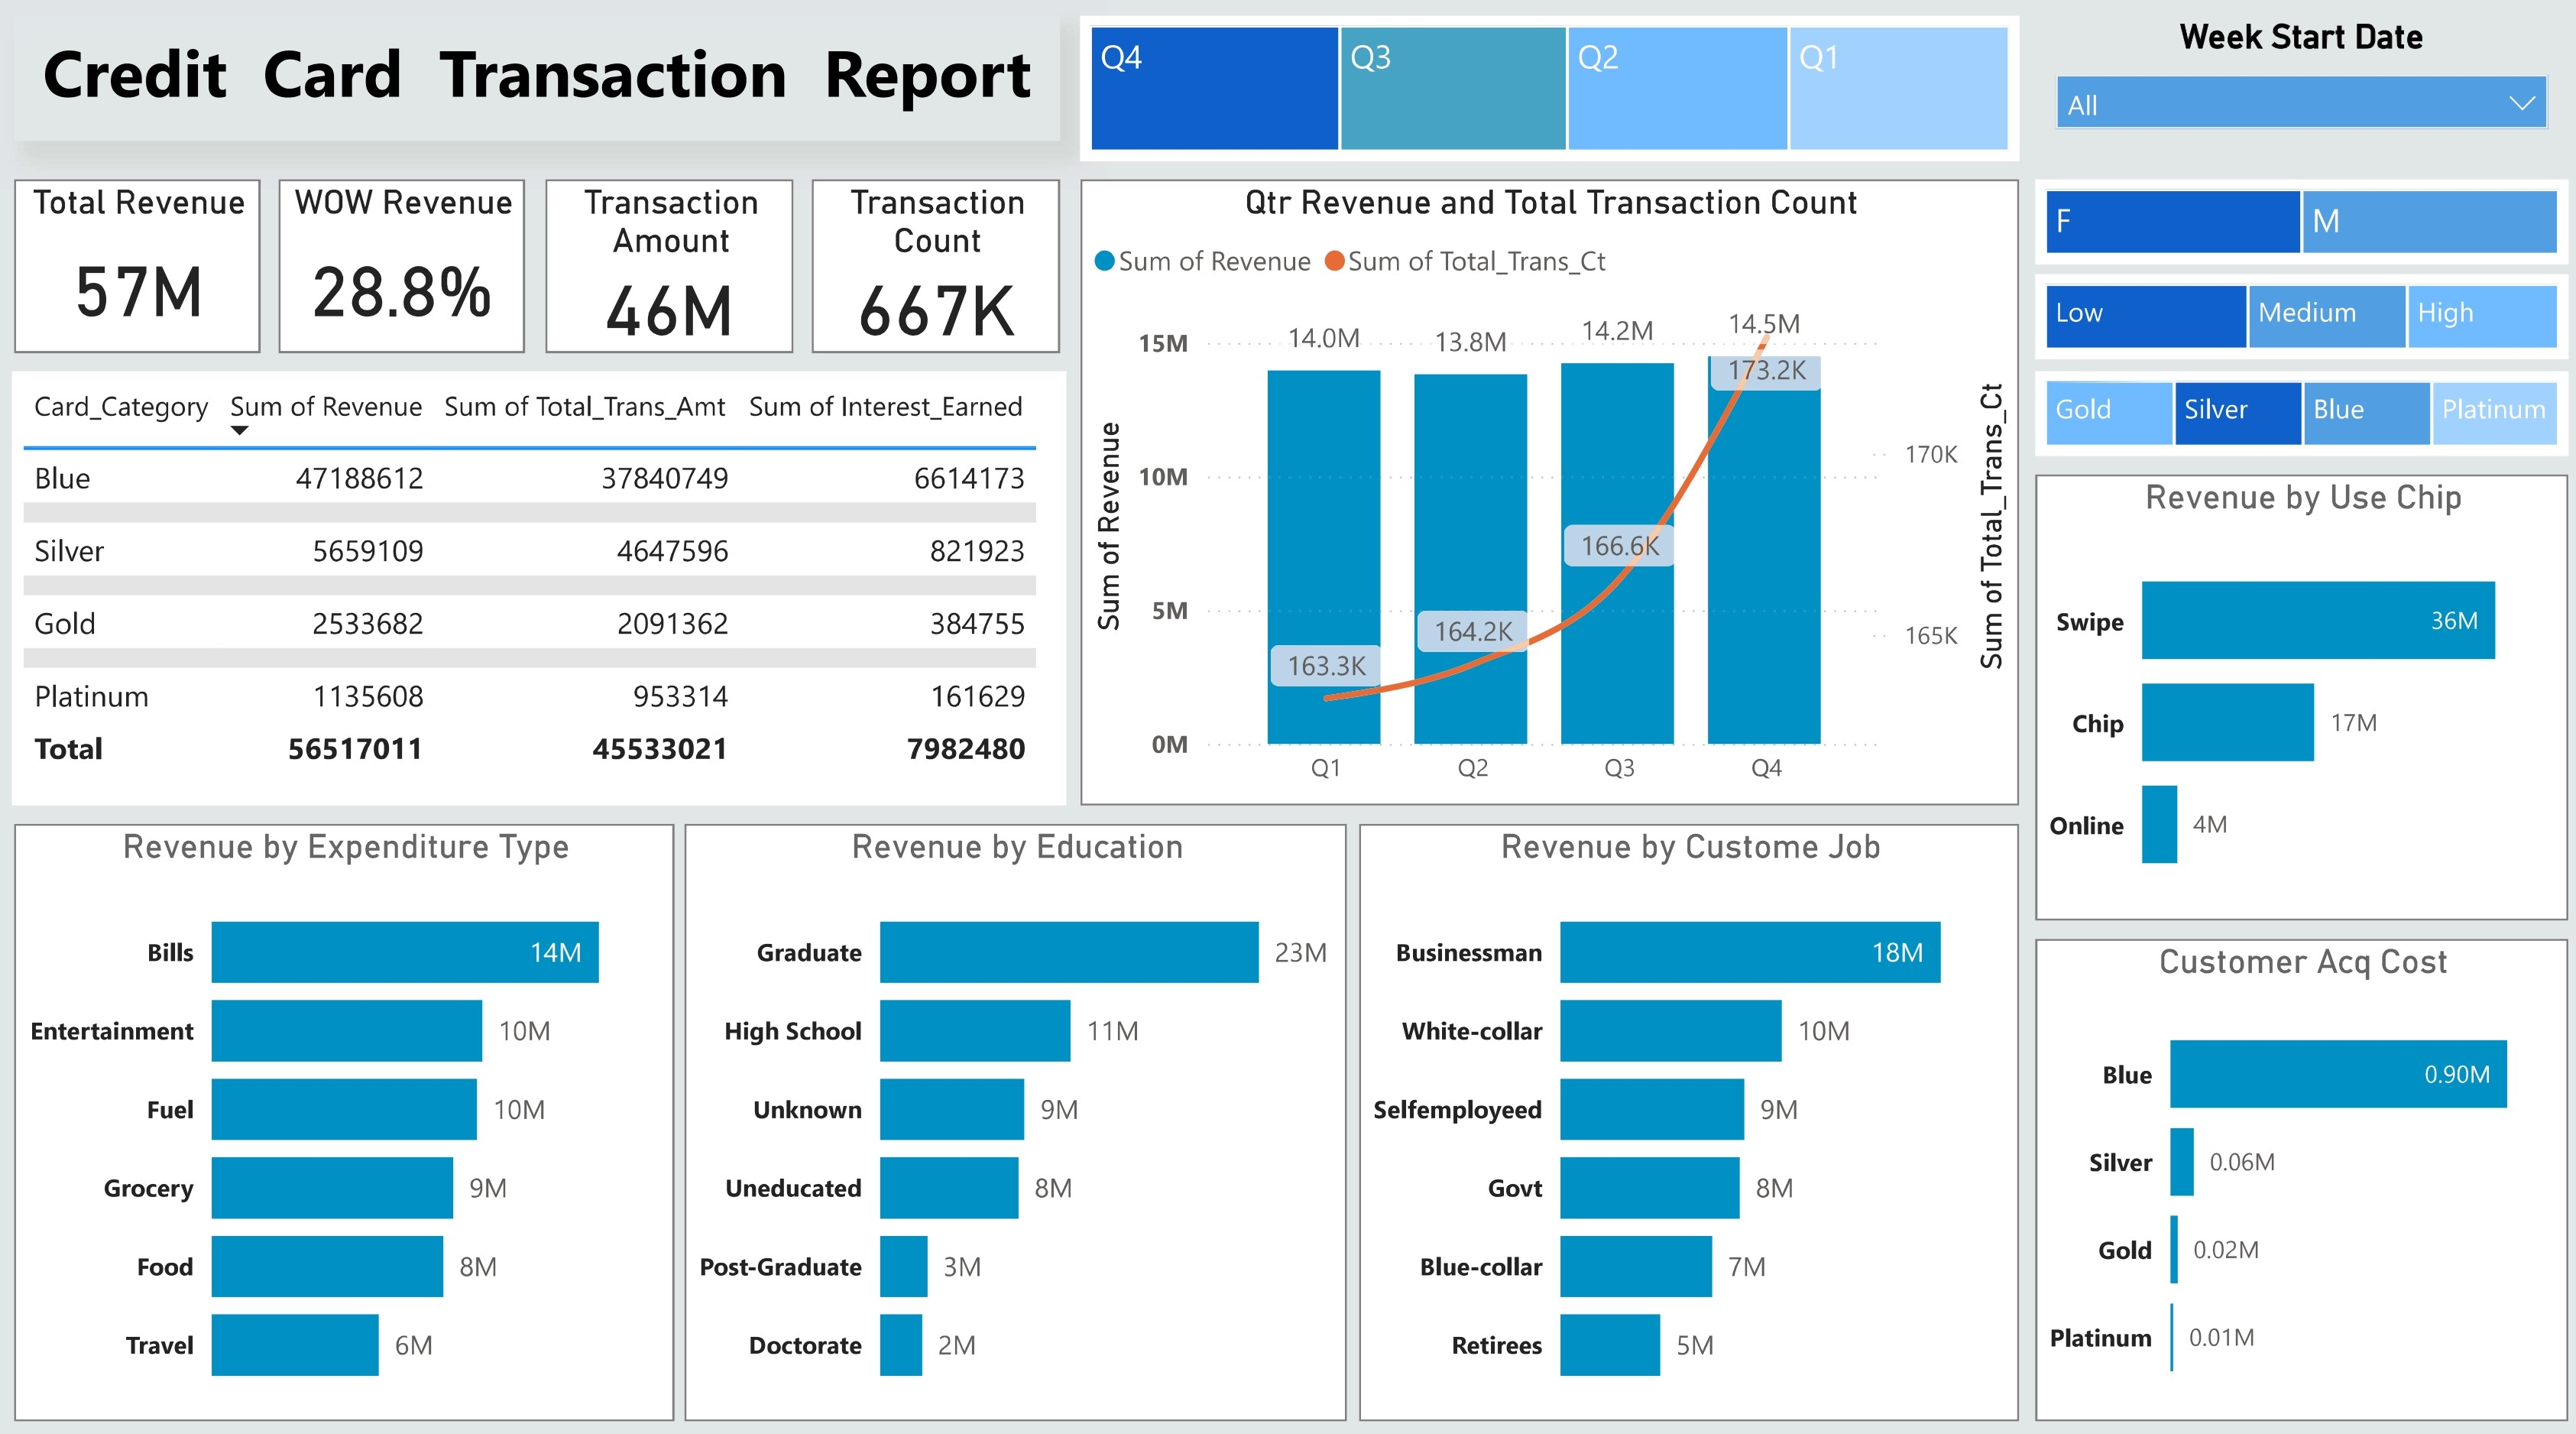

This screenshot's page, from the dashboard's own definition file:
{"tool":"powerbi","page":{"name":"Credit Card - Transaction","canvas":[1280,720],"ordinal":2},"visuals":[{"type":"textbox","box":[7.5,12.5,518.8,62.5],"z":0},{"type":"lineStackedColumnComboChart","title":"Qtr Revenue and Total Transaction Count ","fields":{"Y":["Sum(ccdb cc_detail.Revenue)"],"Category":["ccdb cc_detail.Qtr"],"Y2":["Sum(ccdb cc_detail.Total_Trans_Ct)"]},"box":[536.2,93.8,465,310],"z":1000},{"type":"barChart","title":"Revenue by Expenditure Type","fields":{"Y":["Sum(ccdb cc_detail.Revenue)"],"Category":["ccdb cc_detail.Exp_Type"]},"box":[7.5,412.5,327,296.2],"z":2000},{"type":"barChart","title":"Revenue by Education","fields":{"Y":["Sum(ccdb cc_detail.Revenue)"],"Category":["ccdb cust_detail.Education_Level"]},"box":[340,412.5,327.5,296.2],"z":3000},{"type":"barChart","title":"Revenue by Custome Job","fields":{"Y":["Sum(ccdb cc_detail.Revenue)"],"Category":["ccdb cust_detail.Customer_Job"]},"box":[673.8,412.5,327.5,296.2],"z":4000},{"type":"barChart","title":"Revenue by Use Chip ","fields":{"Y":["Sum(ccdb cc_detail.Revenue)"],"Category":["ccdb cc_detail.Use_Chip"]},"box":[1008.8,240,263.8,221.2],"z":5000},{"type":"barChart","title":"Customer Acq Cost","fields":{"Y":["Sum(ccdb cc_detail.Customer_Acq_Cost)"],"Category":["ccdb cc_detail.Card_Category"]},"box":[1008.8,470,263.8,238.8],"z":6000},{"type":"tableEx","fields":{"Values":["ccdb cc_detail.Card_Category","Sum(ccdb cc_detail.Revenue)","Sum(ccdb cc_detail.Total_Trans_Amt)","Sum(ccdb cc_detail.Interest_Earned)"]},"box":[7.1,188.8,522,215],"z":7000},{"type":"card","title":"Total Revenue","fields":{"Values":["Sum(ccdb cc_detail.Revenue)"]},"box":[7.5,93.8,122.5,86.2],"z":8000},{"type":"card","title":"Transaction Amount","fields":{"Values":["Sum(ccdb cc_detail.Total_Trans_Amt)"]},"box":[271.2,93.8,122.5,86.2],"z":9000},{"type":"card","title":"Transaction Count","fields":{"Values":["Sum(ccdb cc_detail.Total_Trans_Ct)"]},"box":[402.5,93.8,123.8,86.2],"z":11000},{"type":"slicer","title":"Week Start Date","fields":{"Values":["ccdb cc_detail.Week_Start_Date"]},"box":[1008.8,12.5,263.8,72.5],"z":12000},{"type":"treemap","fields":{"Group":["ccdb cc_detail.Qtr"],"Values":["Avg(ccdb cc_detail.Client_Num)"]},"box":[536.2,12.5,465,72.5],"z":13000},{"type":"treemap","fields":{"Values":["Avg(ccdb cc_detail.Client_Num)"],"Group":["ccdb cust_detail.Gender"]},"box":[1008.8,93.8,263.8,42.5],"z":14000},{"type":"treemap","fields":{"Values":["Avg(ccdb cc_detail.Client_Num)"],"Group":["ccdb cc_detail.Card_Category"]},"box":[1008.8,188.8,263.8,42.5],"z":15000},{"type":"treemap","fields":{"Values":["Sum(ccdb cc_detail.Client_Num)"],"Group":["ccdb cust_detail.IncomeGroup"]},"box":[1008.8,141.2,263.8,42],"z":16000},{"type":"card","title":"WOW Revenue","fields":{"Values":["ccdb cc_detail.WOW_Revenue"]},"box":[138.8,93.8,122.5,86.2],"z":16001}]}

Visuals, with their boxes in screenshot pixels (x1, y1, x2, y2), scaled from the page's 1280x720 canvas onto the 2576x1434 screenshot:
textbox: 15, 25, 1059, 149
"Qtr Revenue and Total Transaction Count " lineStackedColumnComboChart: 1079, 187, 2015, 804
"Revenue by Expenditure Type" barChart: 15, 822, 673, 1412
"Revenue by Education" barChart: 684, 822, 1343, 1412
"Revenue by Custome Job" barChart: 1356, 822, 2015, 1412
"Revenue by Use Chip " barChart: 2030, 478, 2561, 919
"Customer Acq Cost" barChart: 2030, 936, 2561, 1412
tableEx - ccdb cc_detail.Card_Category x Sum(ccdb cc_detail.Revenue): 15, 376, 1064, 804
"Total Revenue" card: 15, 187, 261, 358
"Transaction Amount" card: 546, 187, 792, 358
"Transaction Count" card: 810, 187, 1059, 358
"Week Start Date" slicer: 2030, 25, 2561, 169
treemap - ccdb cc_detail.Qtr x Avg(ccdb cc_detail.Client_Num): 1079, 25, 2015, 169
treemap - Avg(ccdb cc_detail.Client_Num) x ccdb cust_detail.Gender: 2030, 187, 2561, 271
treemap - Avg(ccdb cc_detail.Client_Num) x ccdb cc_detail.Card_Category: 2030, 376, 2561, 461
treemap - Sum(ccdb cc_detail.Client_Num) x ccdb cust_detail.IncomeGroup: 2030, 281, 2561, 365
"WOW Revenue" card: 280, 187, 526, 358
